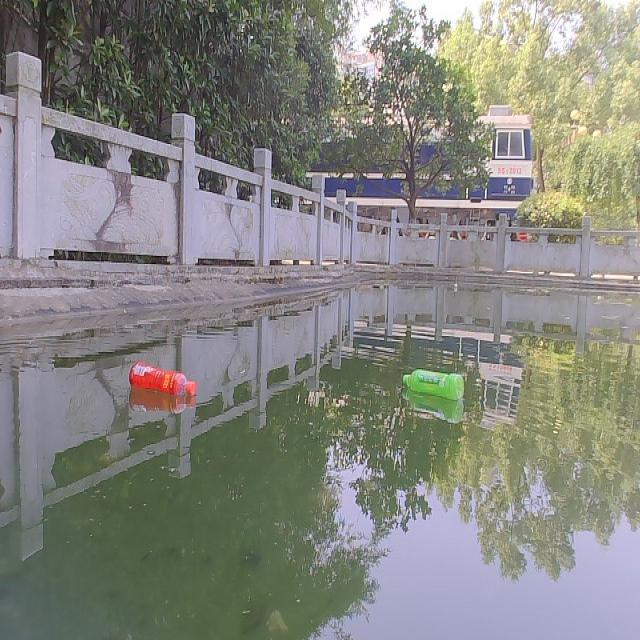bottle: (128, 360, 197, 396), (398, 367, 466, 401)
